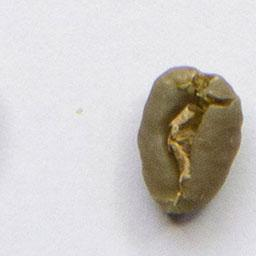peaberry: (135, 63, 246, 221)
